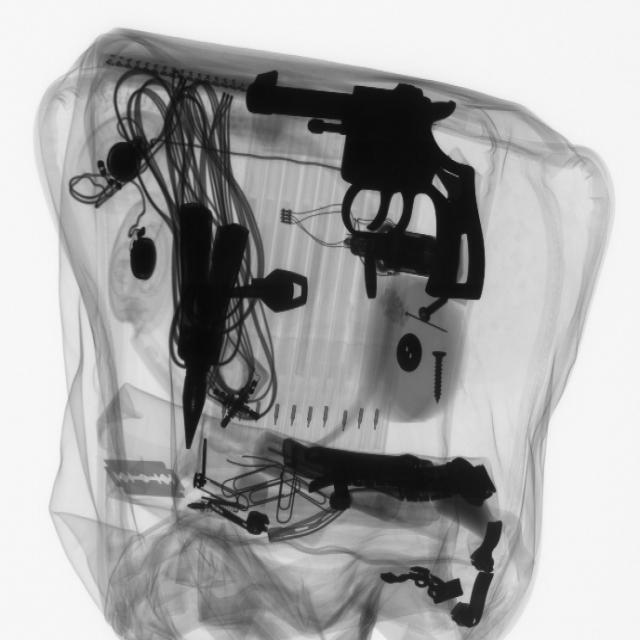BLADE: (98, 449, 194, 507)
GUN: (247, 74, 487, 303)
SCREW: (416, 346, 464, 412), (407, 293, 462, 338)
